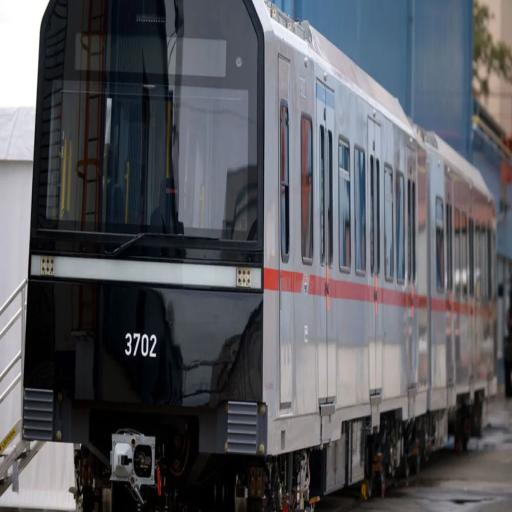X-Wagen: (18, 2, 489, 506)
